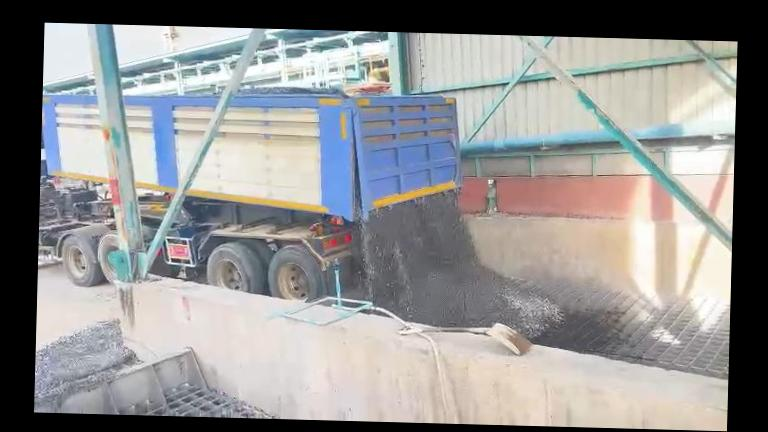gravel: (361, 192, 561, 336), (35, 320, 136, 411), (238, 87, 349, 97)
